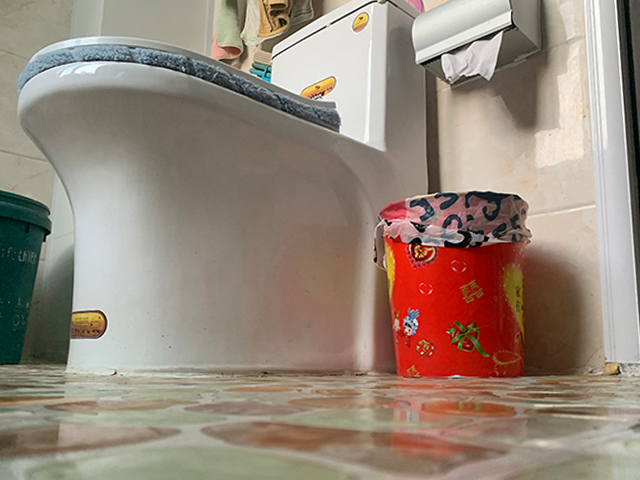closestool: (16, 1, 429, 375)
trashcan: (378, 189, 529, 379)
